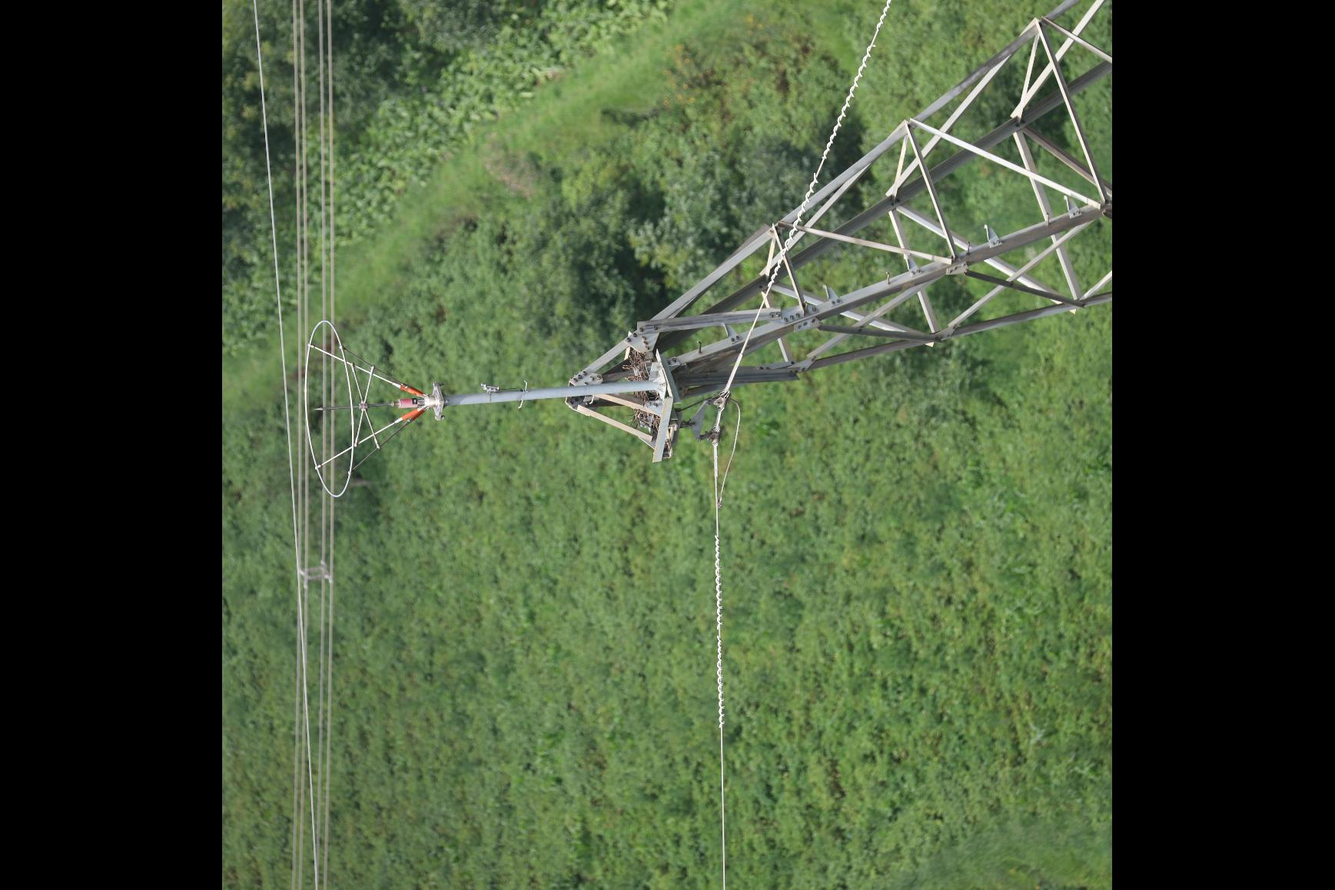nest: (620, 348, 655, 423)
